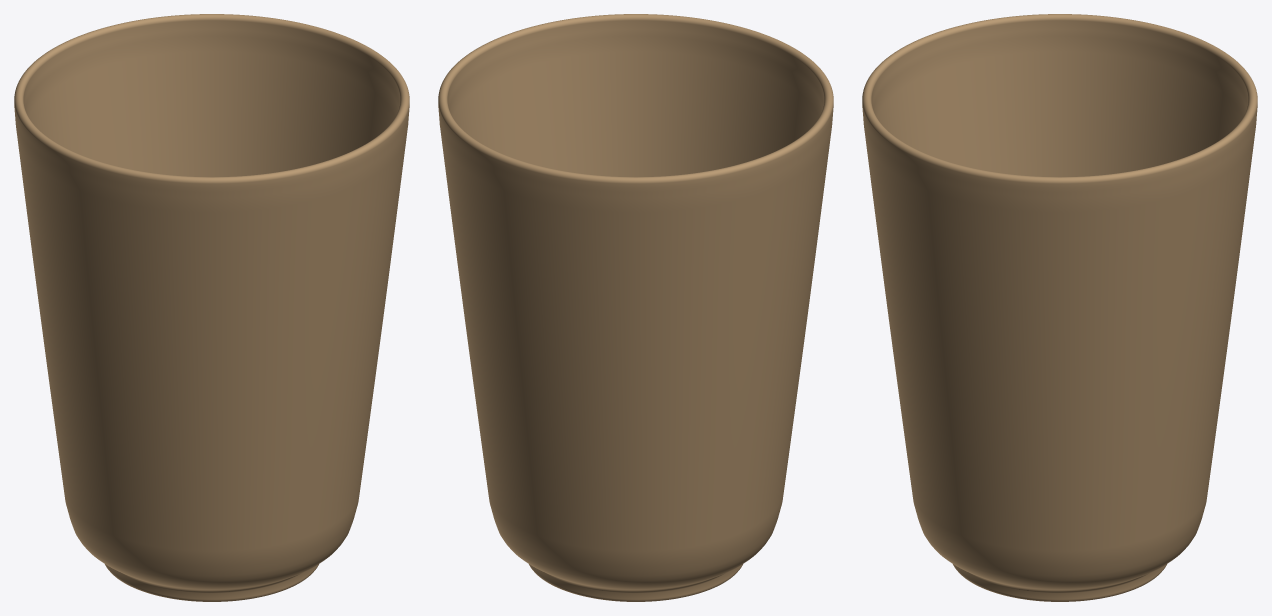
3 renders of one model, left to right at view 1: azimuth 30°, elevation 25°; view 2: azimuth 150°, elevation 25°; view 3: azimuth 270°, elevation 25°, orthographic.
Visible parts, largest first — view 1: part_001_cup_body_rim_and_foot, part_000_cup_body_rim_and_foot; view 2: part_001_cup_body_rim_and_foot, part_000_cup_body_rim_and_foot; view 3: part_001_cup_body_rim_and_foot, part_000_cup_body_rim_and_foot.
Boxes of the visible parts, x1,y1,x2,y2 form: part_001_cup_body_rim_and_foot: [16, 129, 407, 583]; part_000_cup_body_rim_and_foot: [14, 14, 409, 601]; part_001_cup_body_rim_and_foot: [440, 129, 831, 583]; part_000_cup_body_rim_and_foot: [438, 14, 833, 601]; part_001_cup_body_rim_and_foot: [864, 129, 1255, 583]; part_000_cup_body_rim_and_foot: [862, 14, 1257, 601].
Size of the model in its own units: 0.084 by 0.108 by 0.084.
